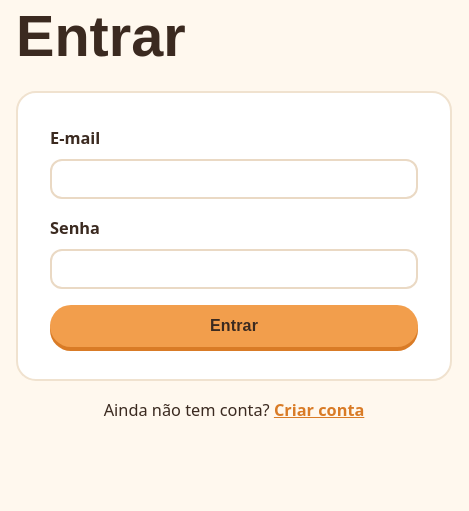
it: componentes › o login valida os campos antes de enviar e mostra o erro do servidor
Click the button "Entrar": (234, 326) [50,305,418,347]
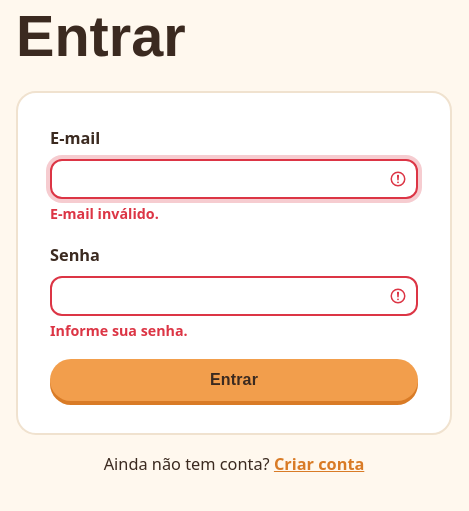
Now the text "E-mail inválido." is shown, box [50,204,159,223]
In the field labelled "E-mail": (234, 179) [50,159,418,199], type "ana@teste.com"
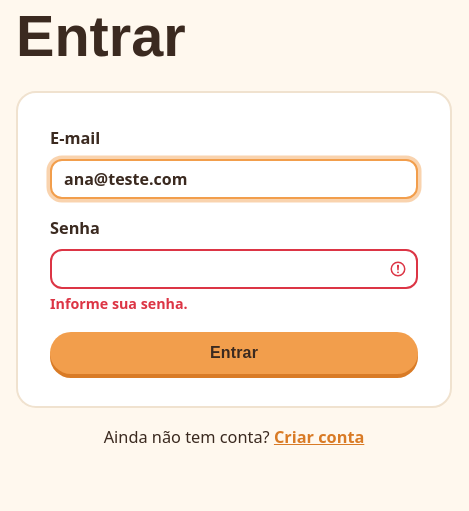
In the password field labelled "Senha": (234, 269) [50,249,418,289], type "errada"
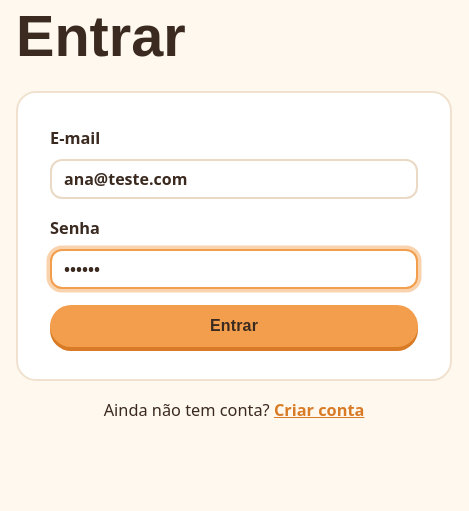
Click the button "Entrar": (234, 326) [50,305,418,347]
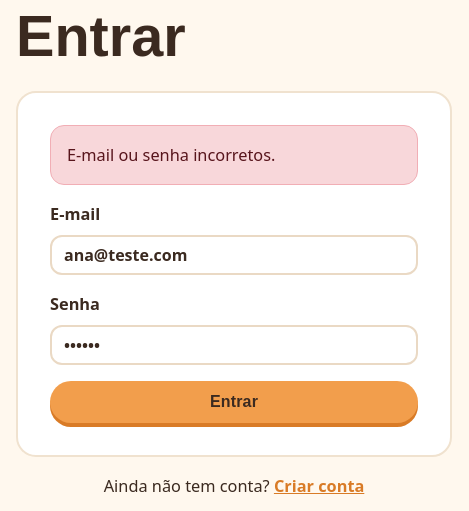
Now the text "E-mail ou senha incorretos." is shown, box [50,125,418,185]
